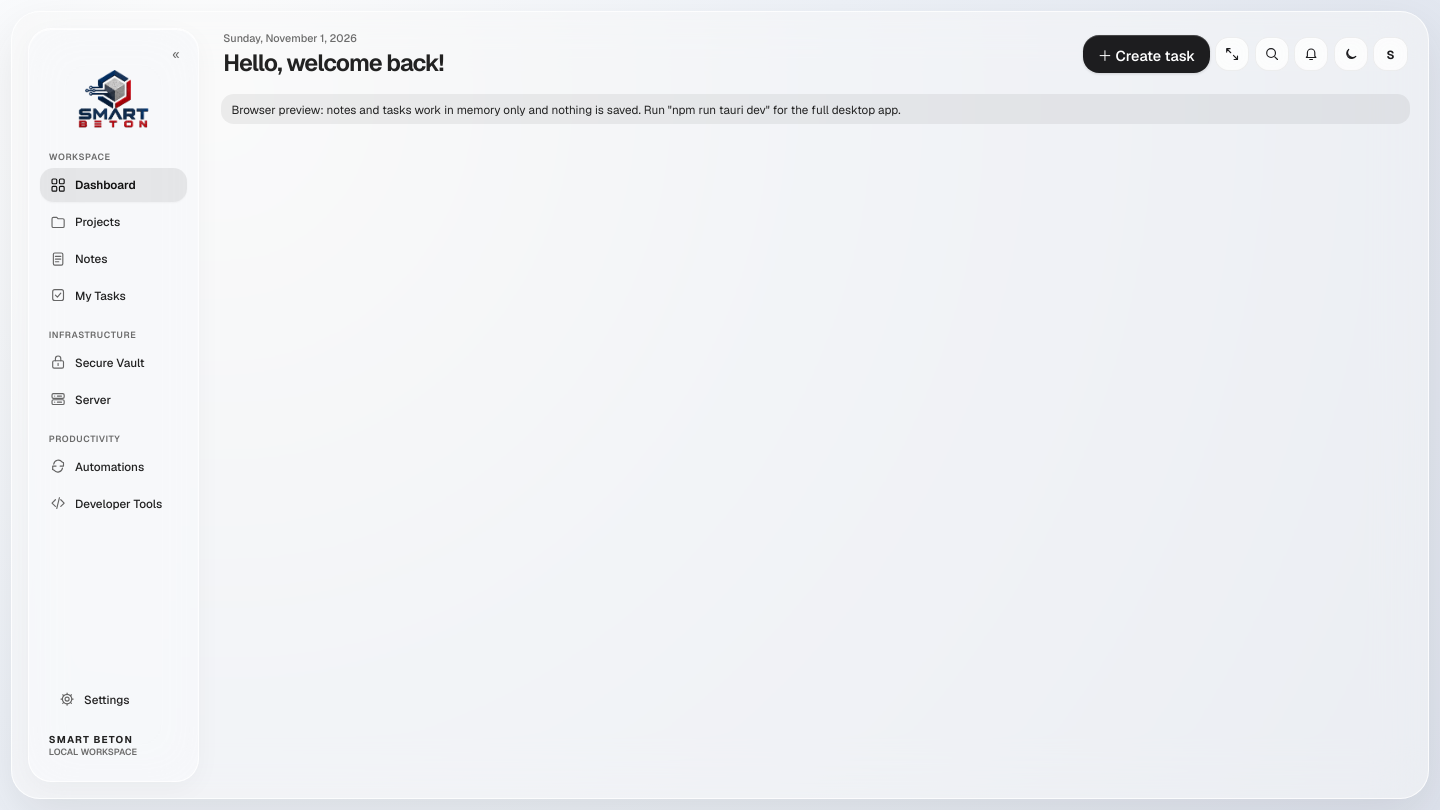
Scenario: starts and ends a working session from the project page
The width and height of the screenshot is (1440, 810).
Click the button "Projects" at (114, 222), box [40,205,187,239]
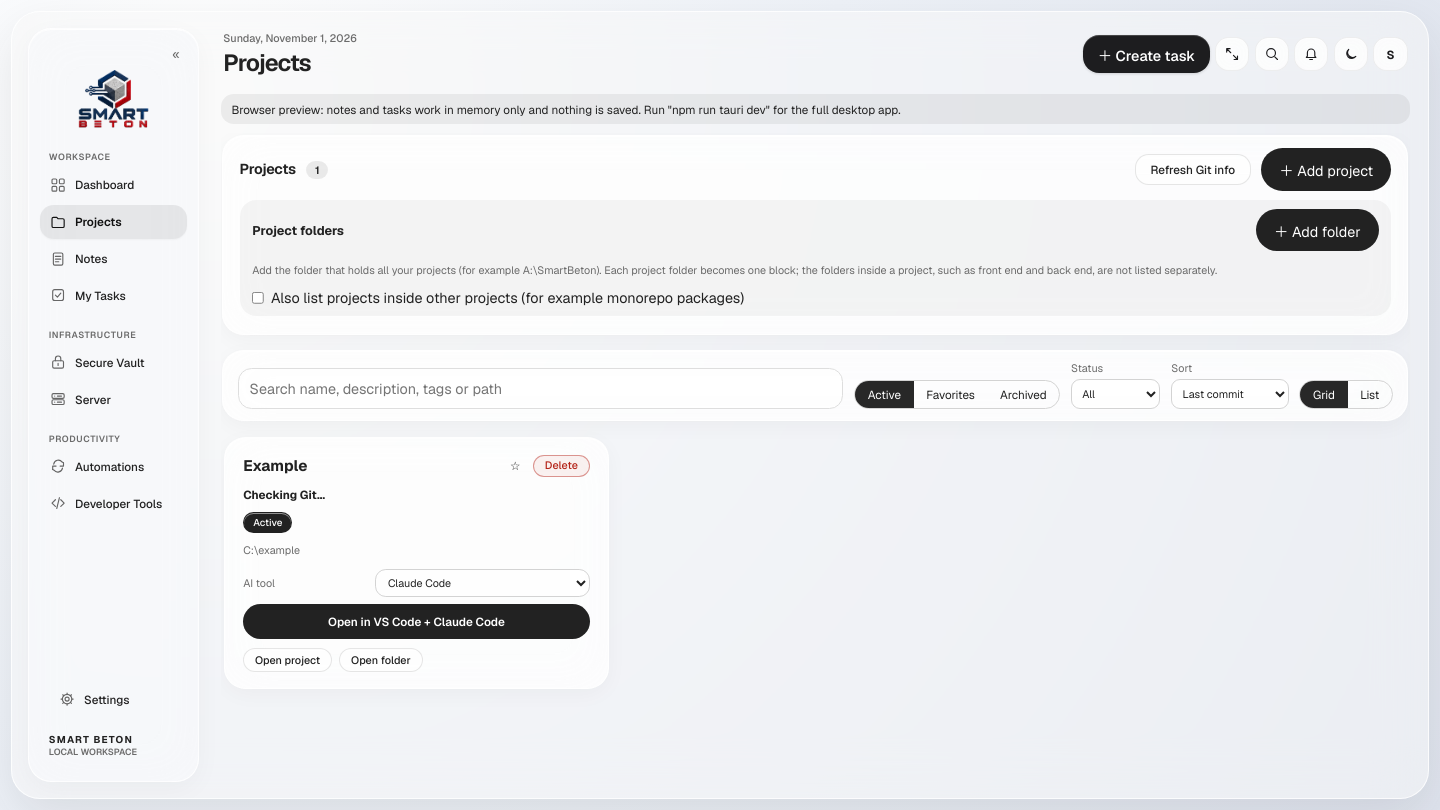
Click the button "Open project" at (288, 660), box [243,648,332,672]
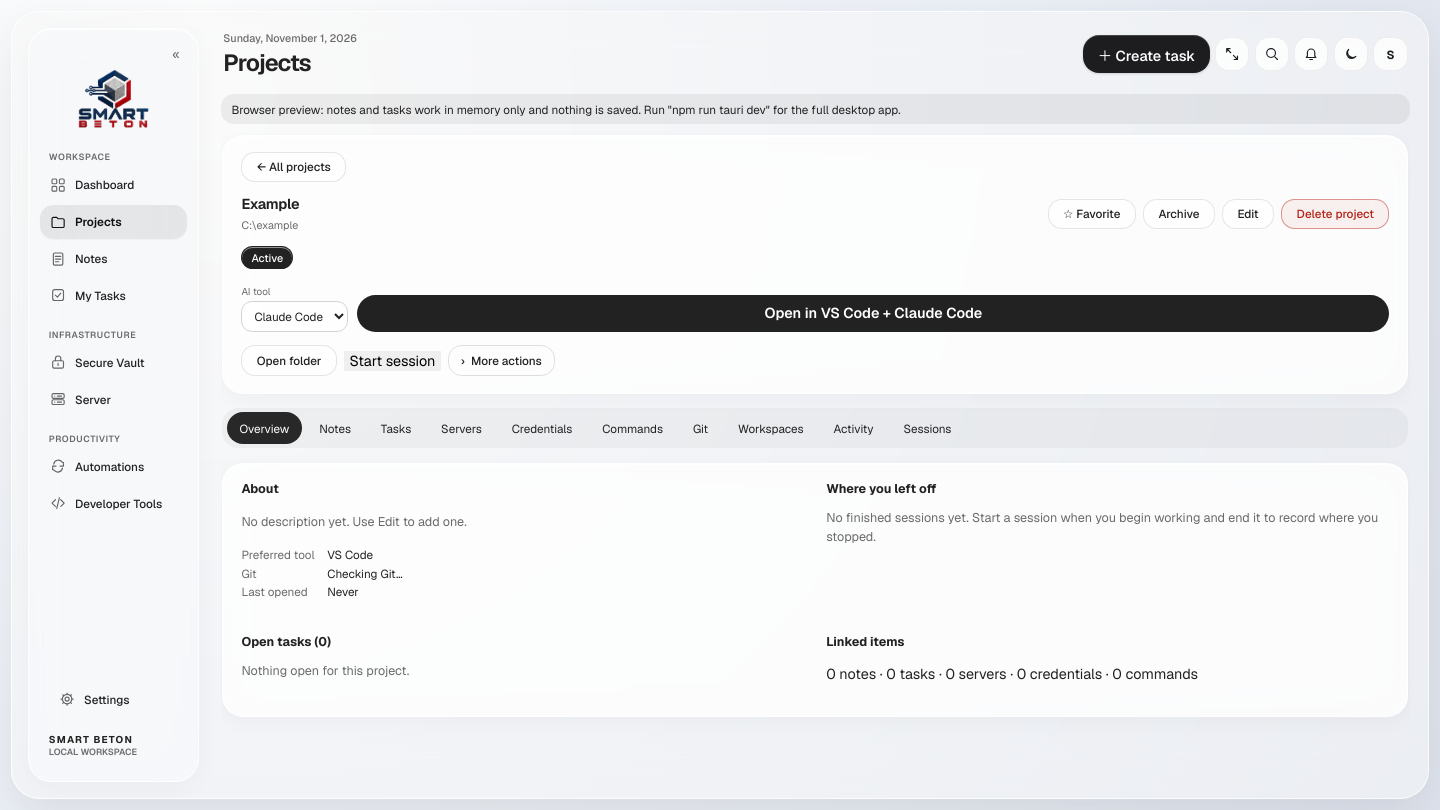
Click the button "Start session" at (392, 361), box [344,351,441,370]
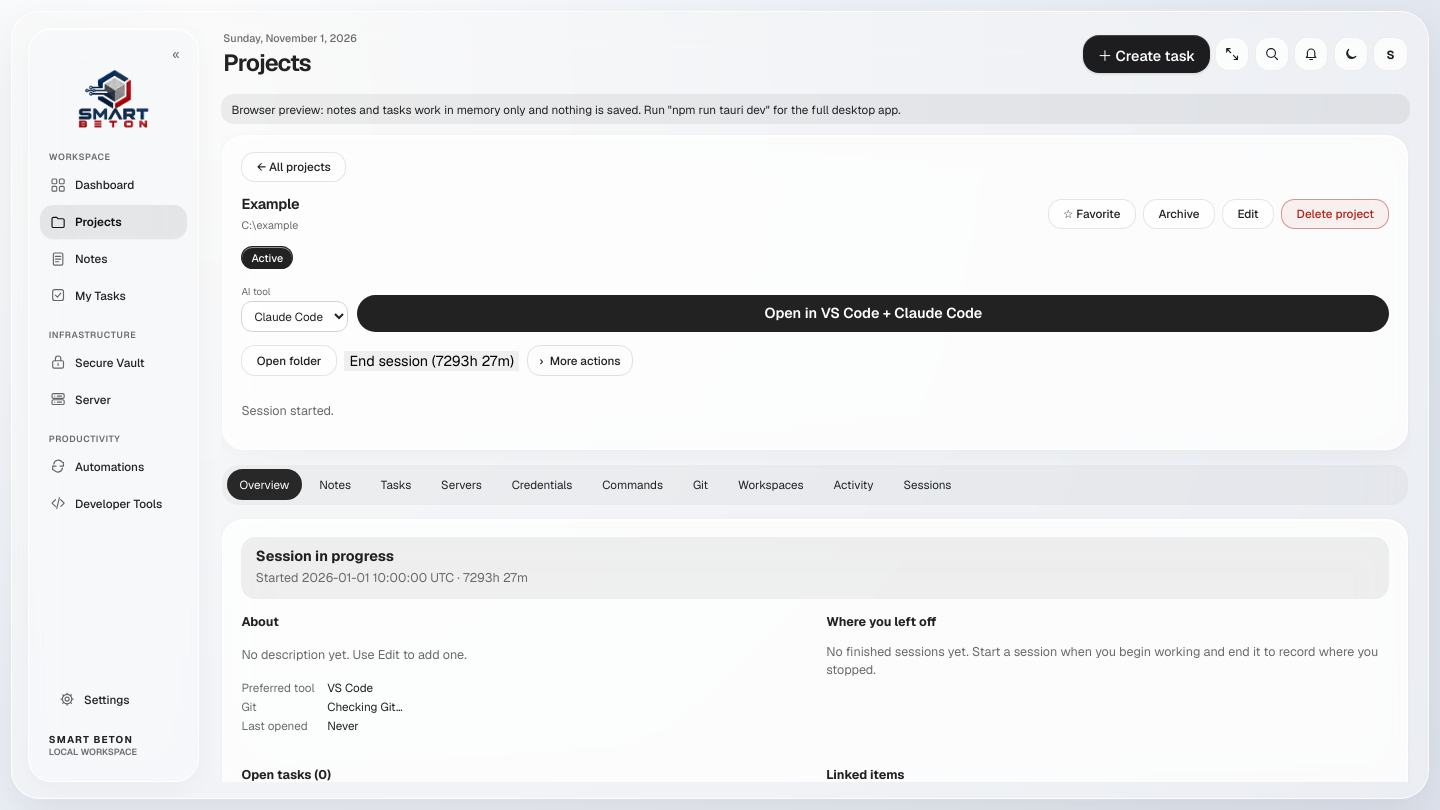
Click the button "End session (7293h 27m)" at (432, 361), box [344,351,519,370]
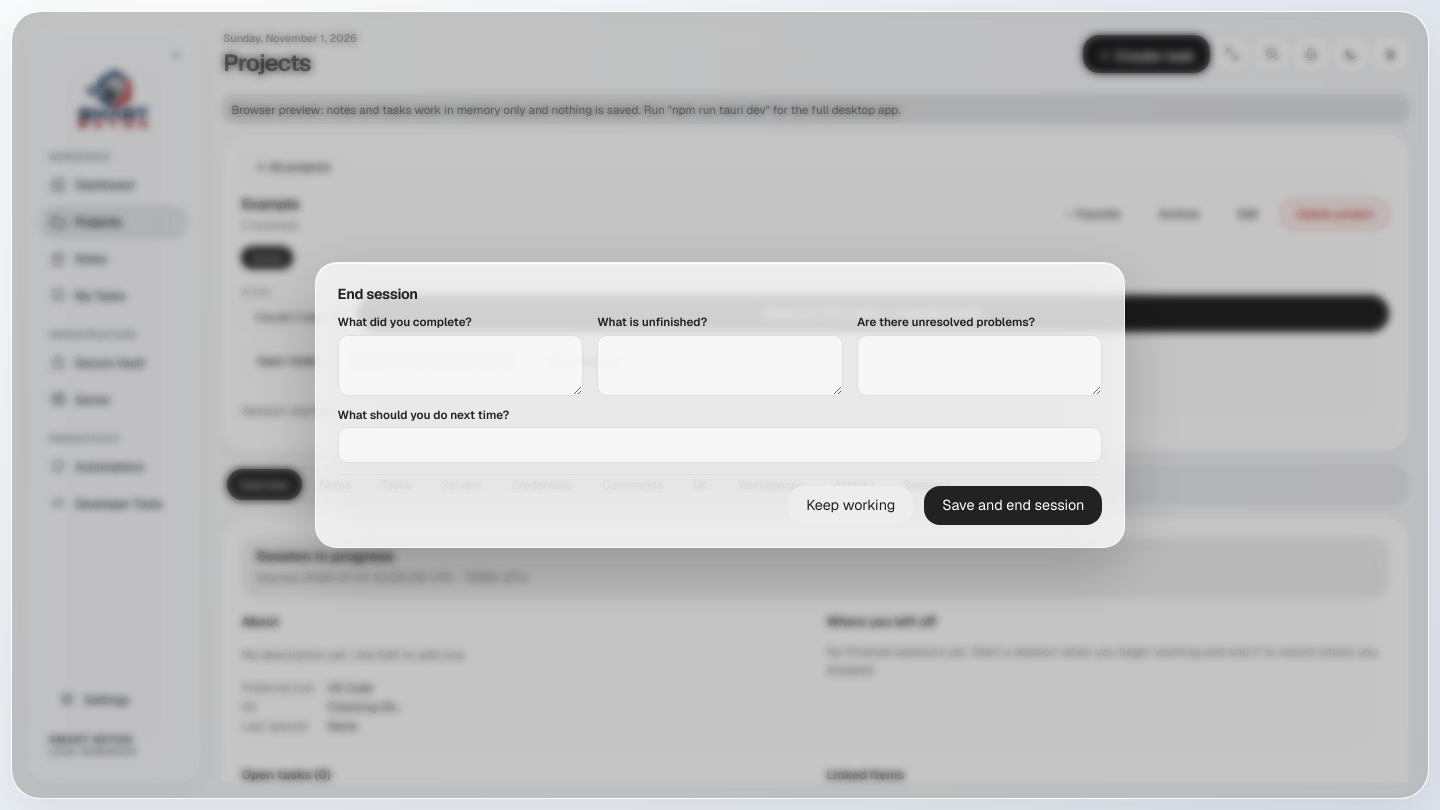
Type "Reviewed code" into the text box labelled "What did you complete?" at (460, 365), box [338,335,583,396]
Type "Write tests" into the field labelled "What should you do next time?" at (720, 445), box [338,427,1102,463]
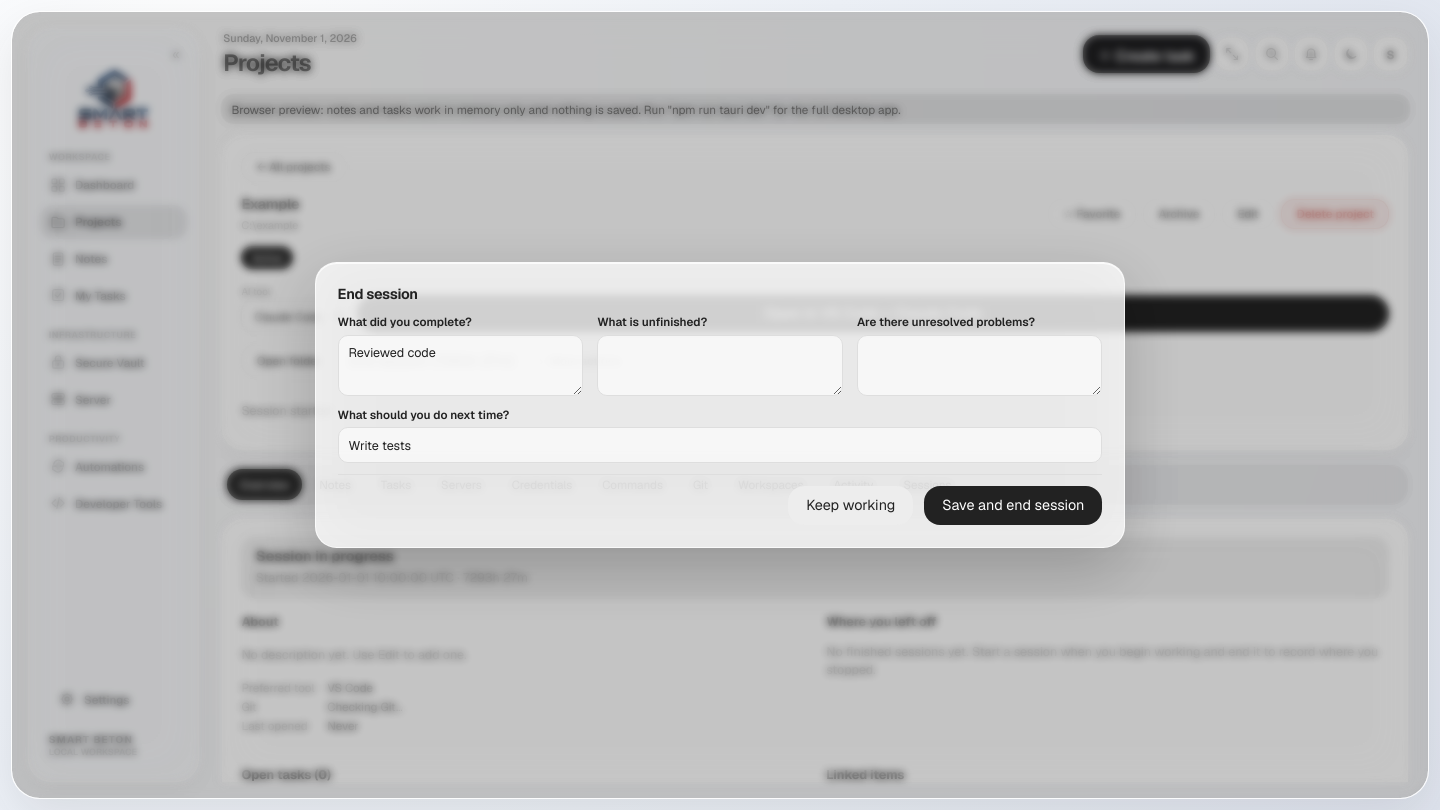
Click the button "Save and end session" at (1013, 505), box [924,486,1102,525]
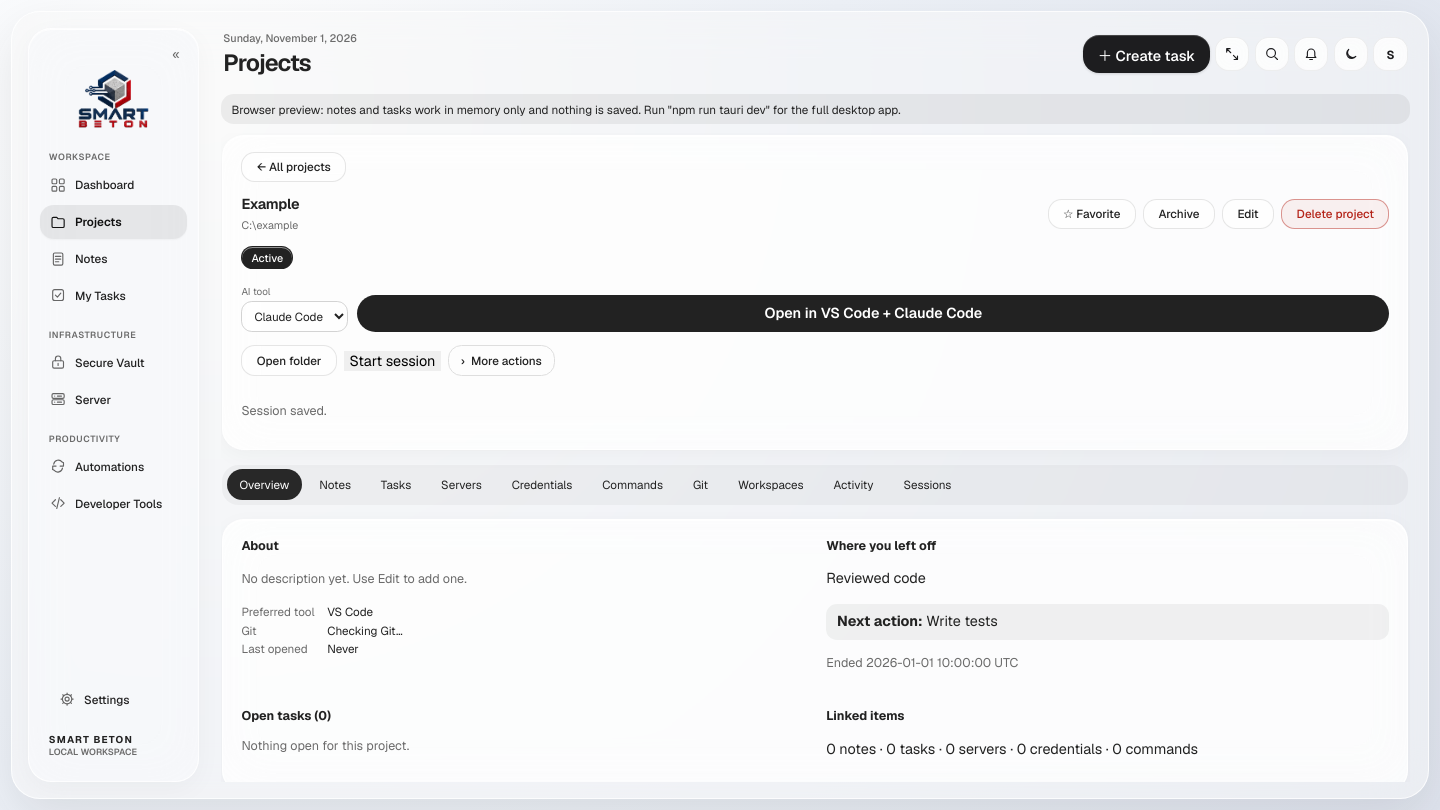
expect the text "Write tests" is shown: met, box [926,612,998,630]
